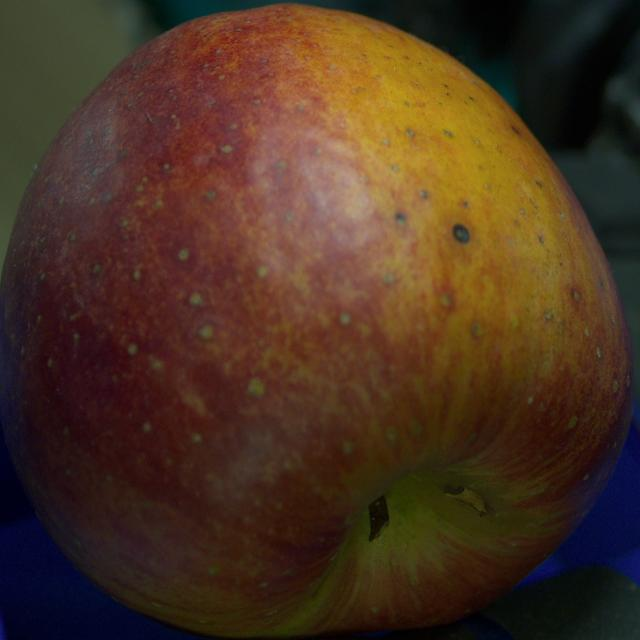apple: (0, 5, 632, 638)
pest: (453, 224, 469, 243), (396, 214, 405, 223), (512, 126, 521, 135)
scratch: (446, 487, 488, 515)
